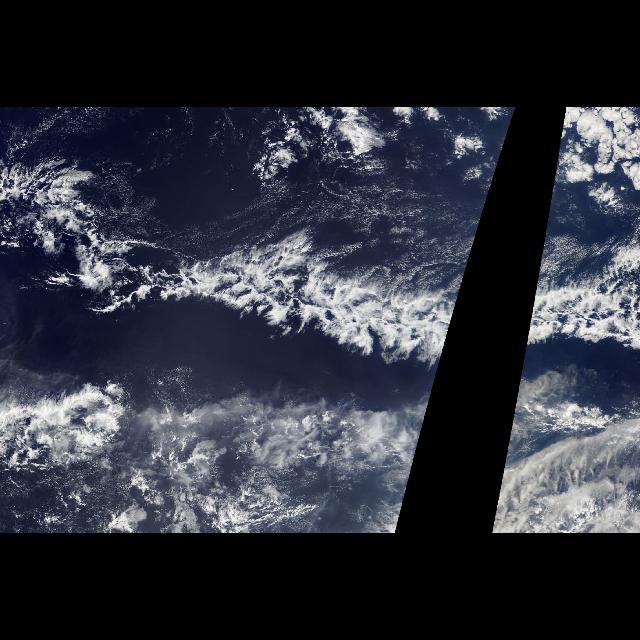Fish: (4, 150, 504, 388), (517, 150, 639, 388)
Sugar: (236, 144, 494, 278), (536, 178, 584, 278)
